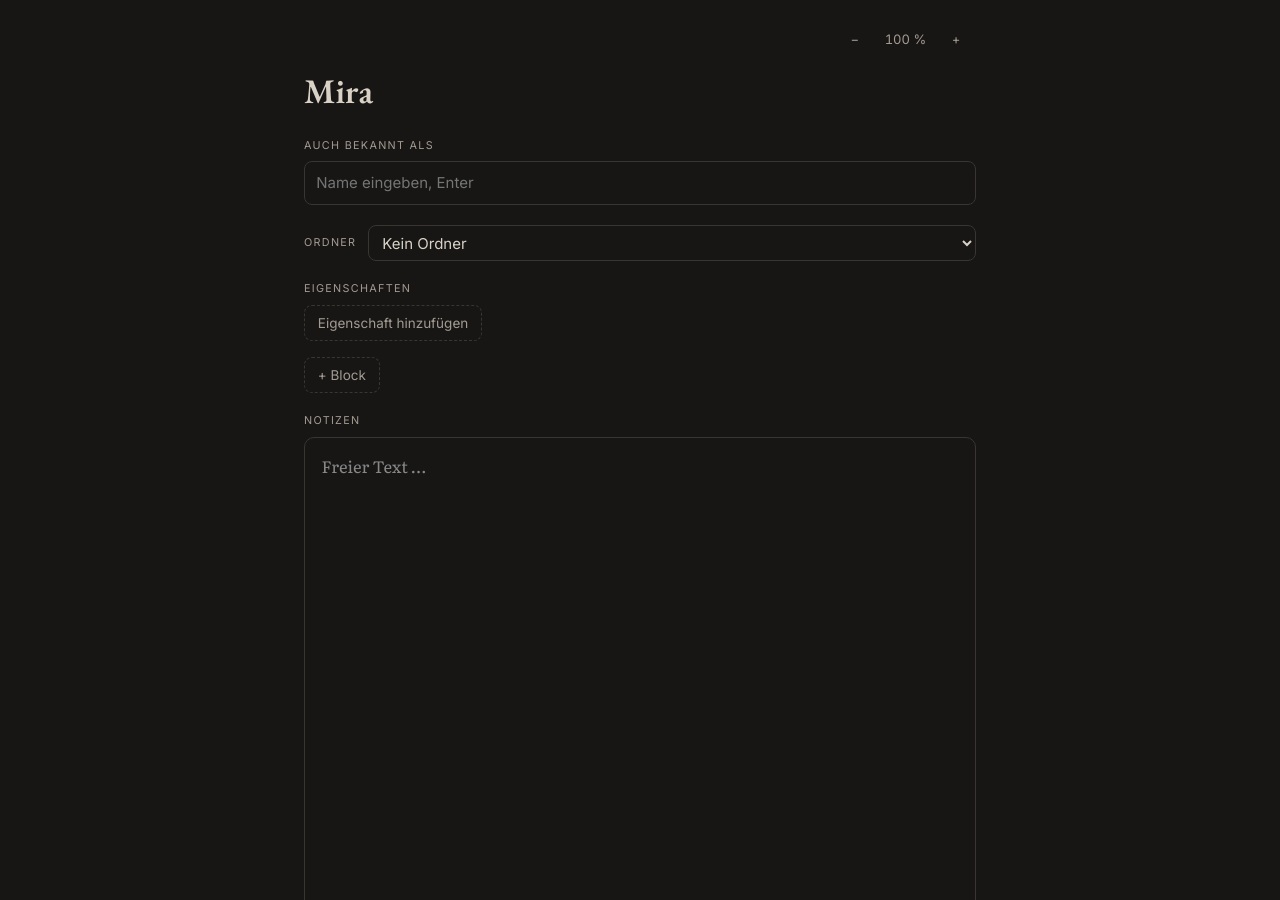
Test: renaming › a new name asks what to do with the old one in the text
The image size is (1280, 900).
Type "bel" into the field named "Name" at (640, 92), box [304,66,976,118]
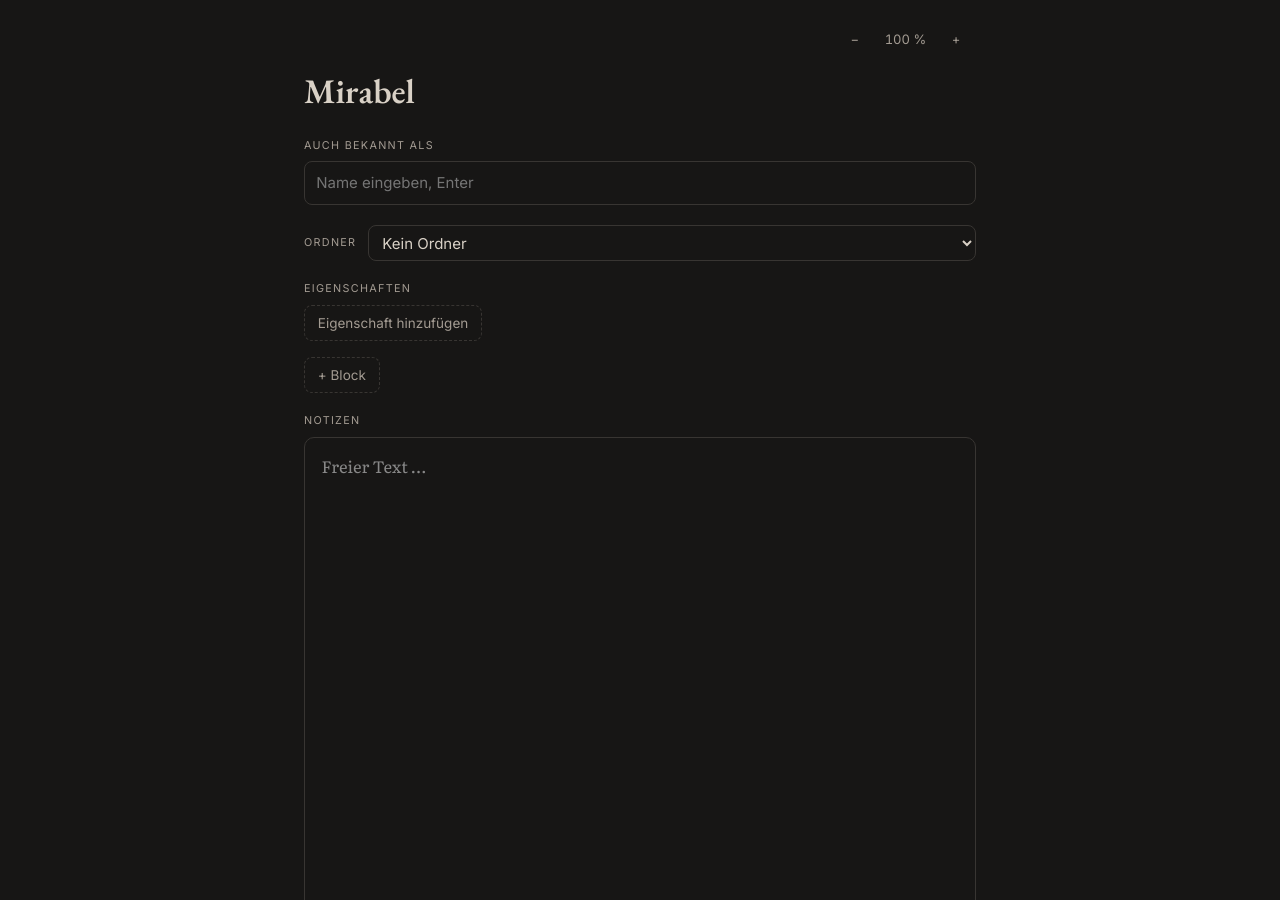
Press Tab
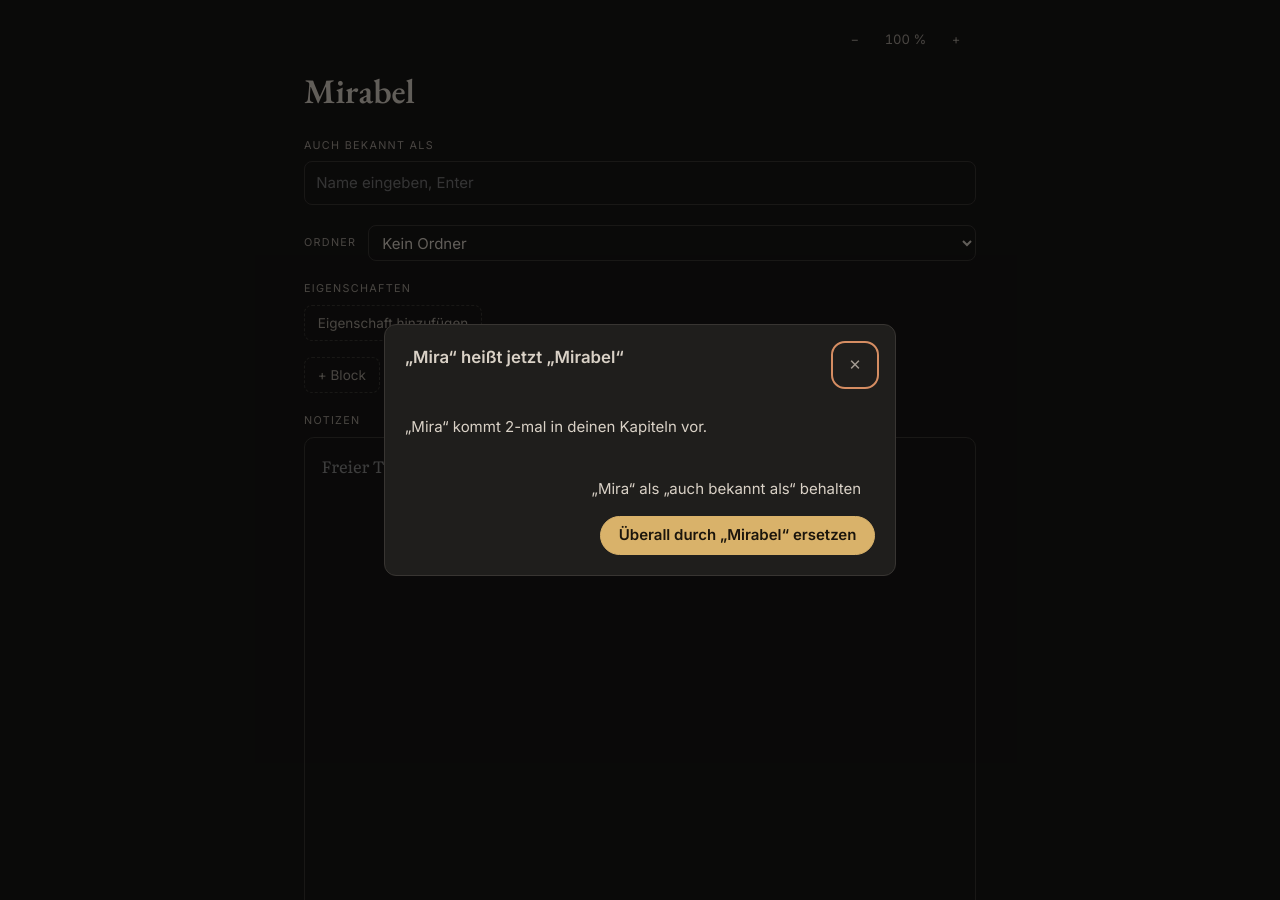
Expected: the text "„Mira“ kommt 2-mal in deinen Kapiteln vor." is shown, [405,417,707,436]
Click the button "Überall durch „Mirabel“ ersetzen" at (738, 536), box [600,516,875,555]
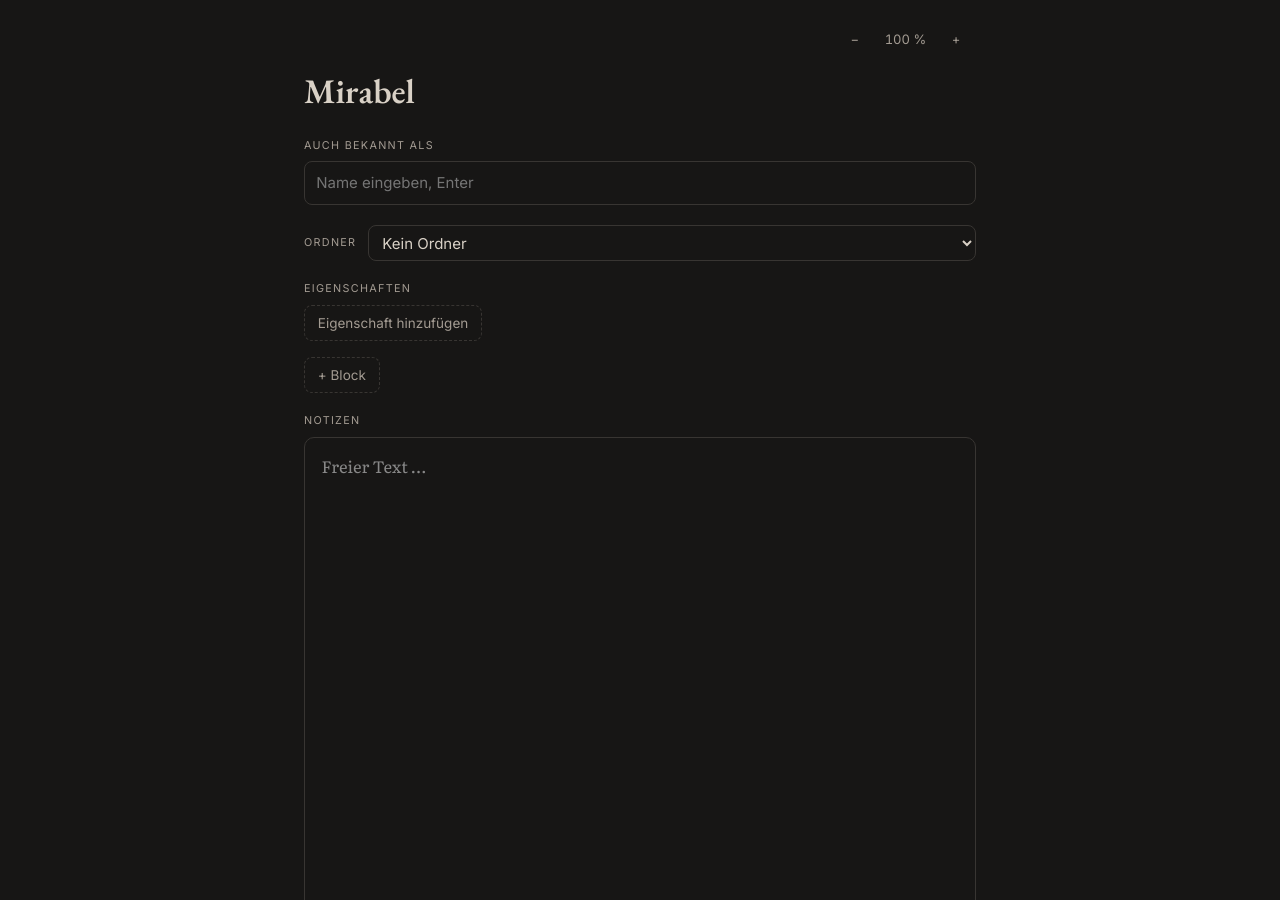
Expected: the dialog is gone
